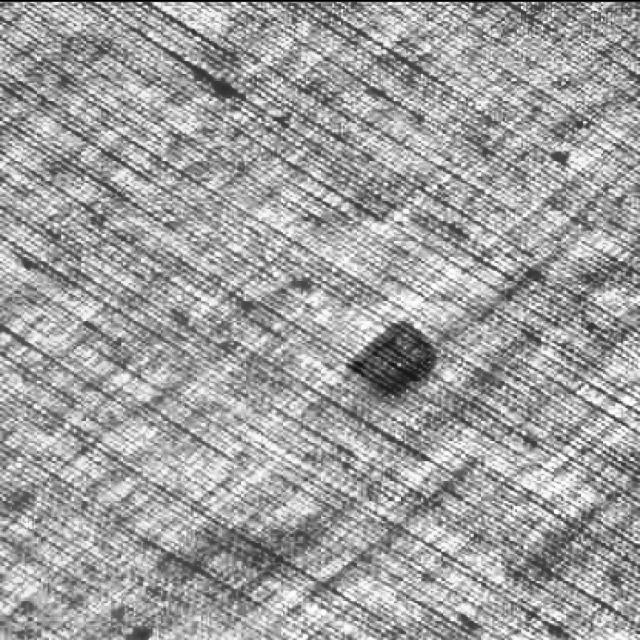oil_spot: (336, 313, 445, 405)
